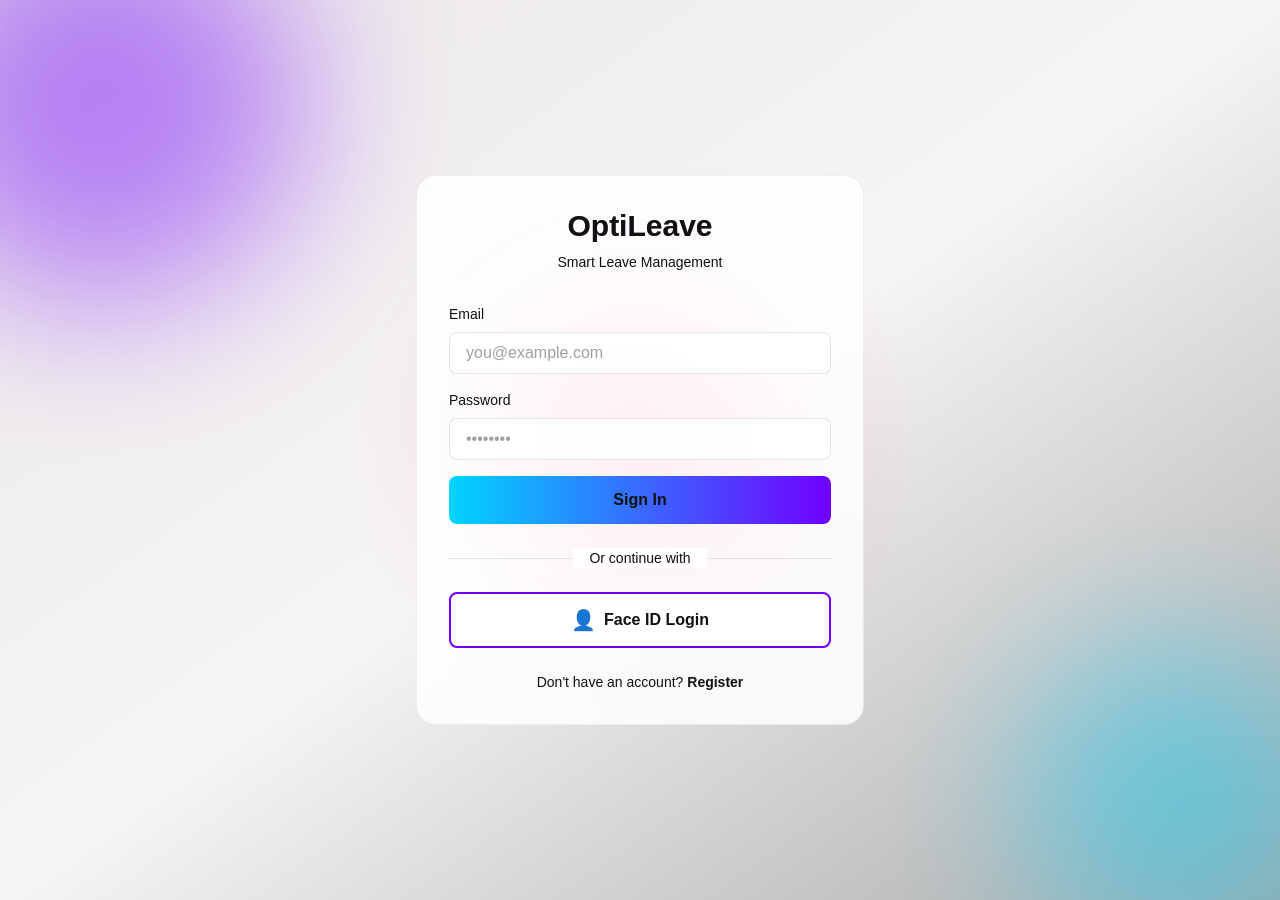
Scenario: LoginPage › Error Handling › should clear error message on new submission
The image size is (1280, 900).
# First submission - fails
Type "wrong@example.com" into the field labelled "Email" at (640, 353), box [449, 332, 831, 374]
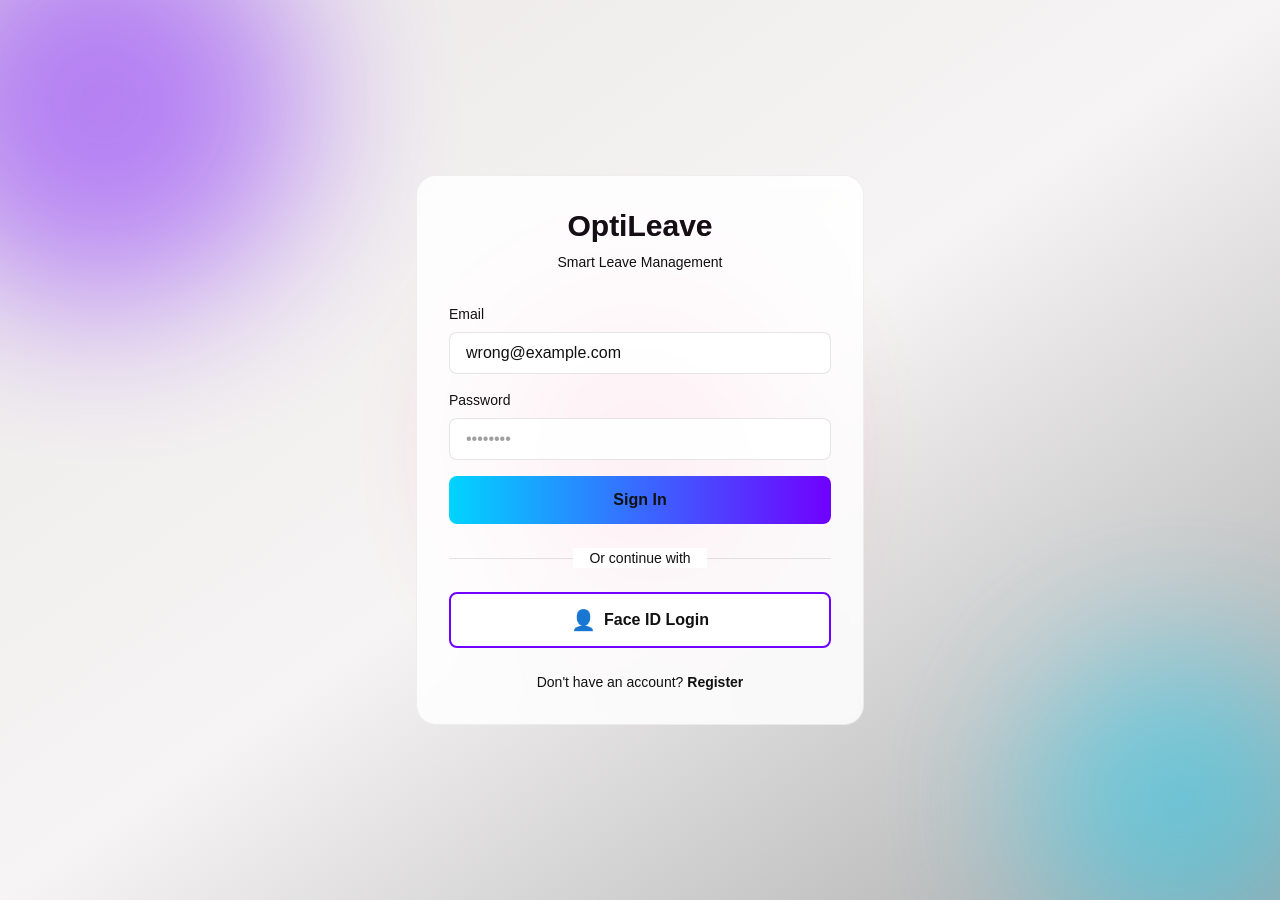
Type "wrongpassword" into the password field labelled "Password" at (640, 439), box [449, 418, 831, 460]
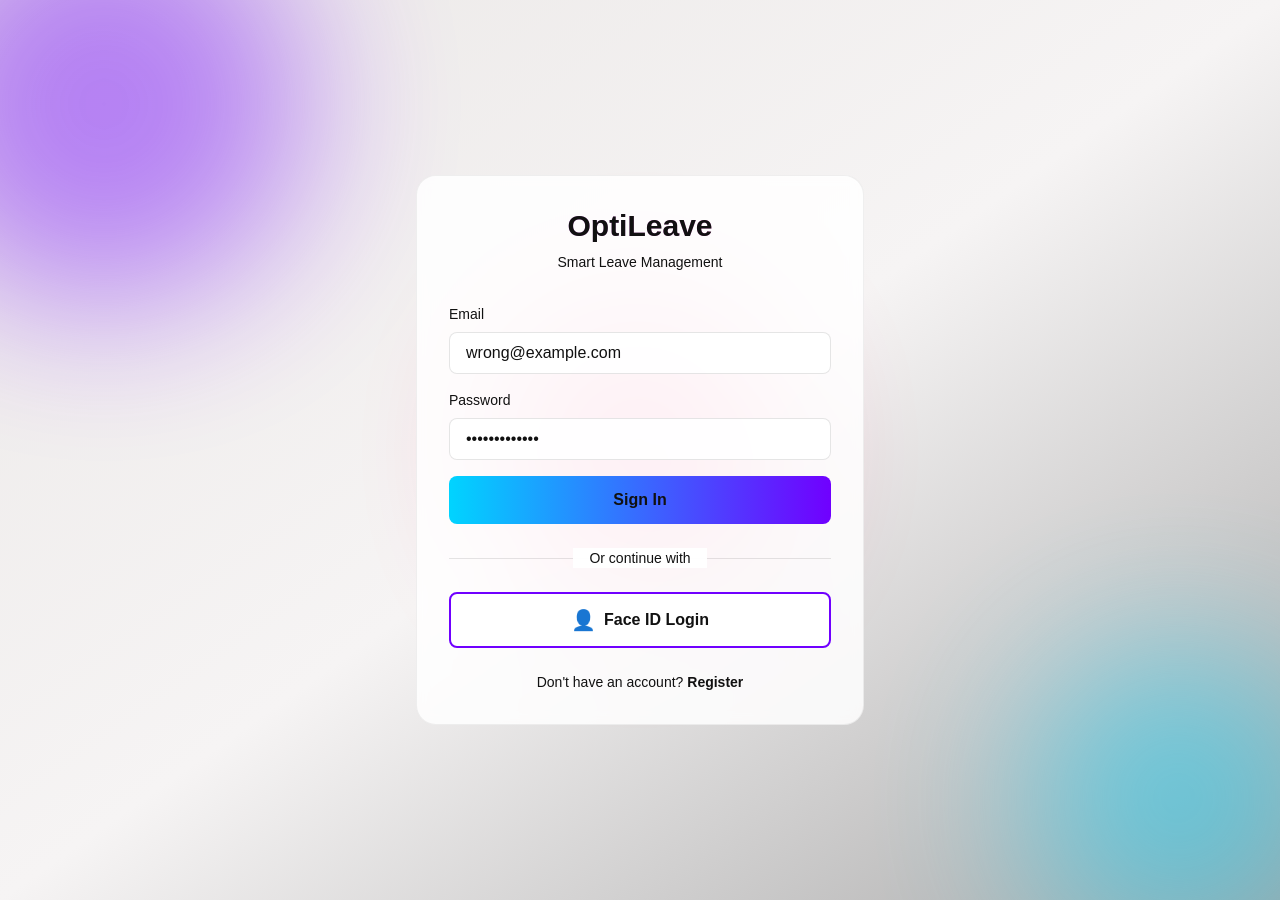
Click the button "Sign In" at (640, 500), box [449, 476, 831, 524]
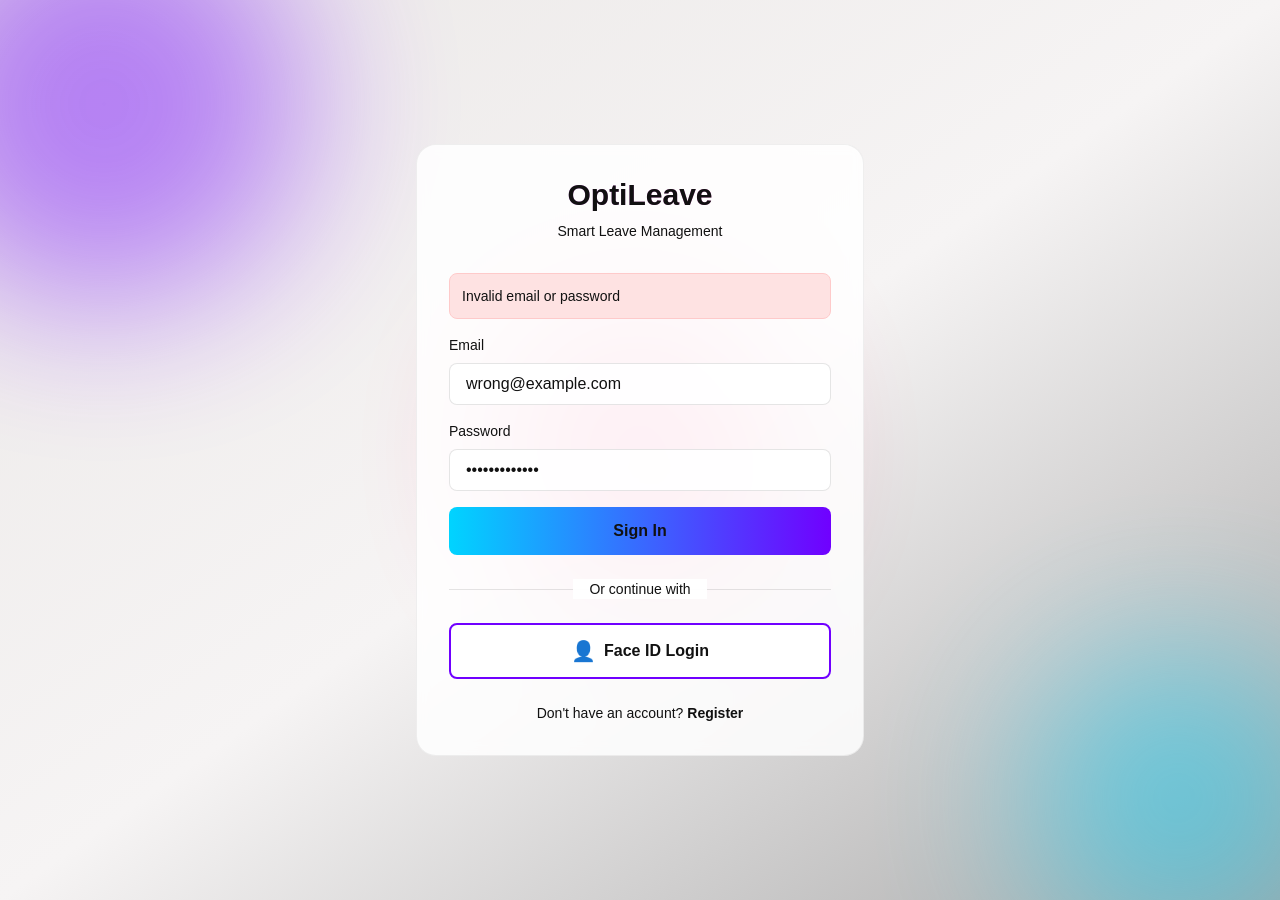
Check: the text "Invalid email or password" is shown, box [449, 273, 831, 319]
Replace the text in the field labelled "Email" with "correct@example.com" at (640, 384), box [449, 363, 831, 405]
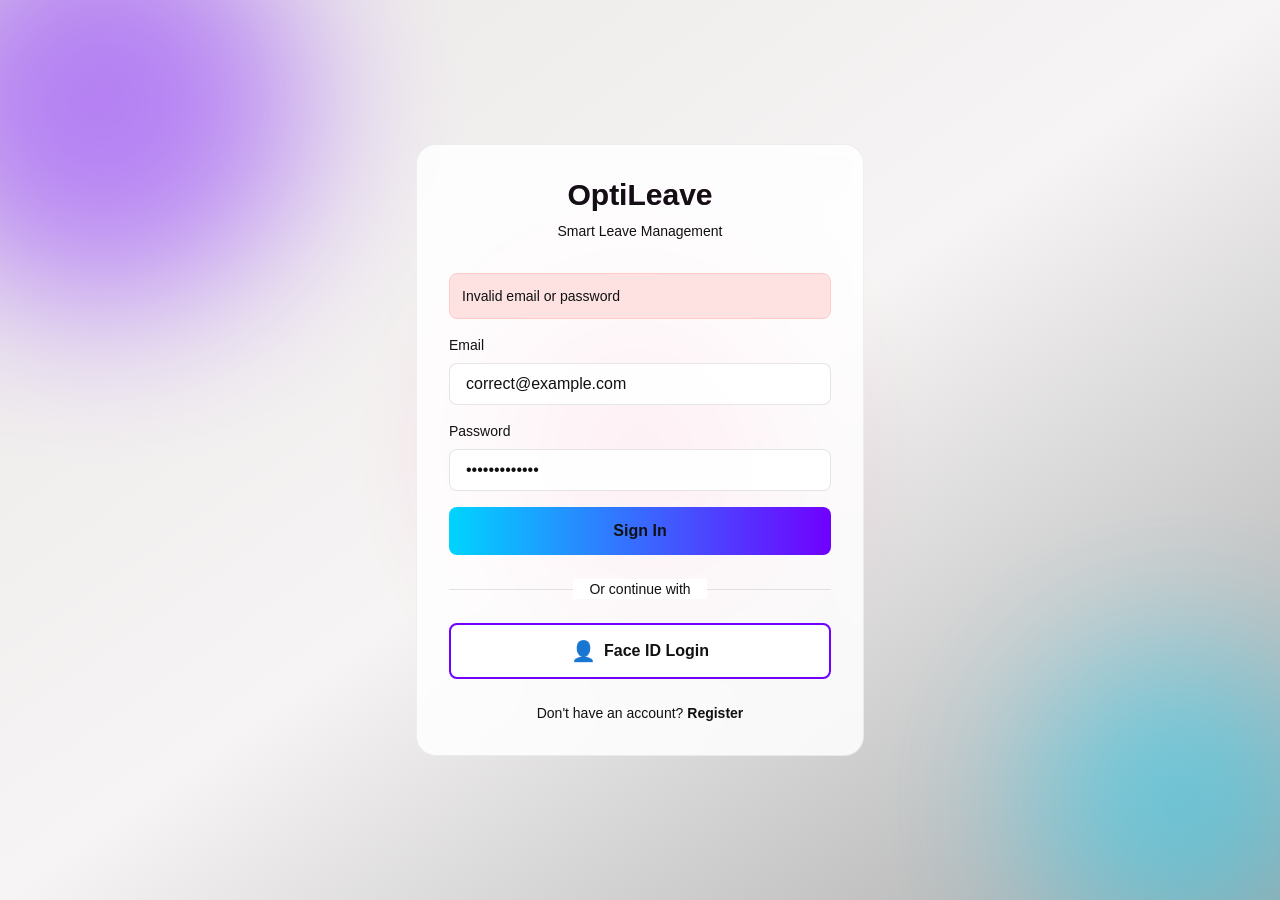
Type "correctpassword" into the password field labelled "Password" at (640, 470), box [449, 449, 831, 491]
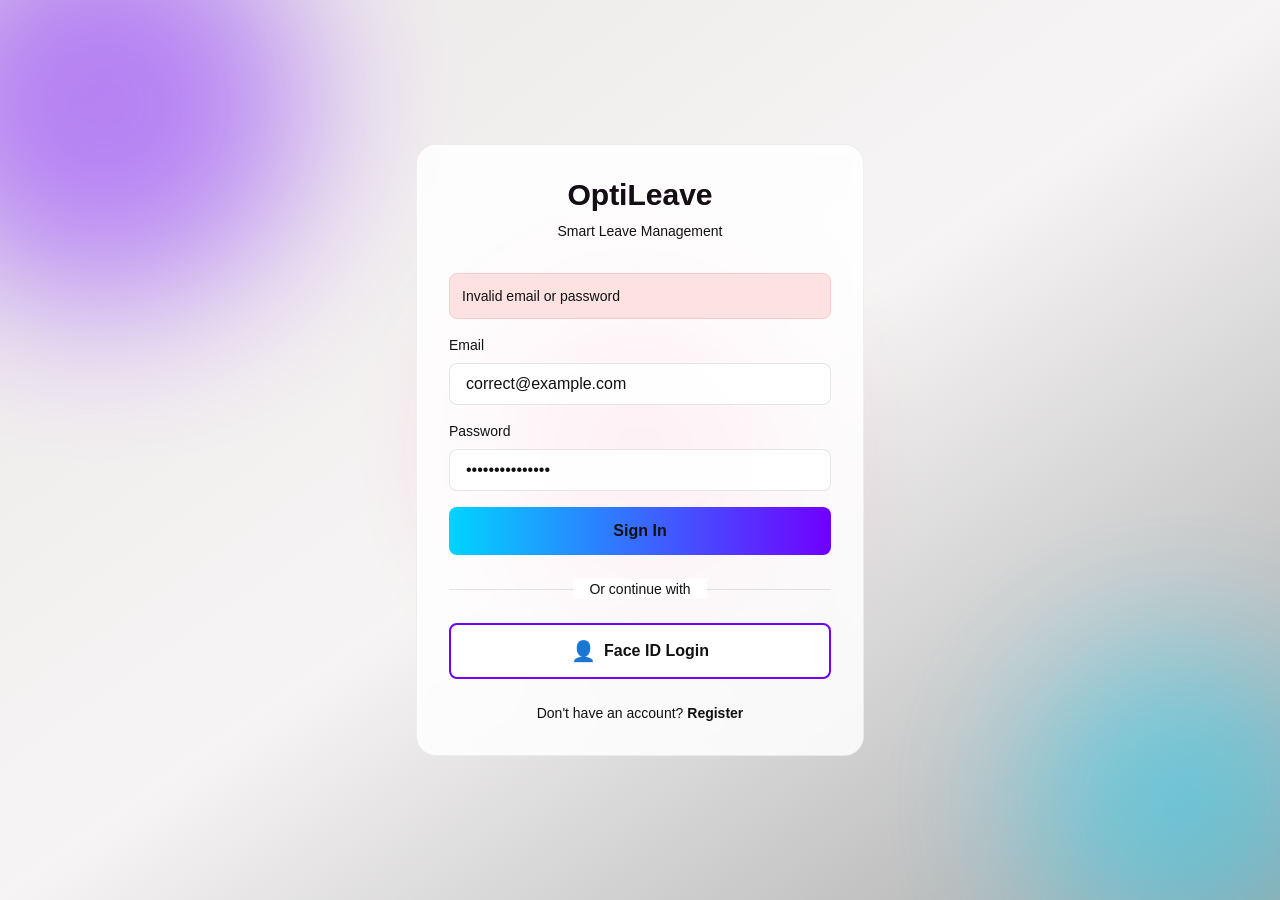
Click the button "Sign In" at (640, 531), box [449, 507, 831, 555]
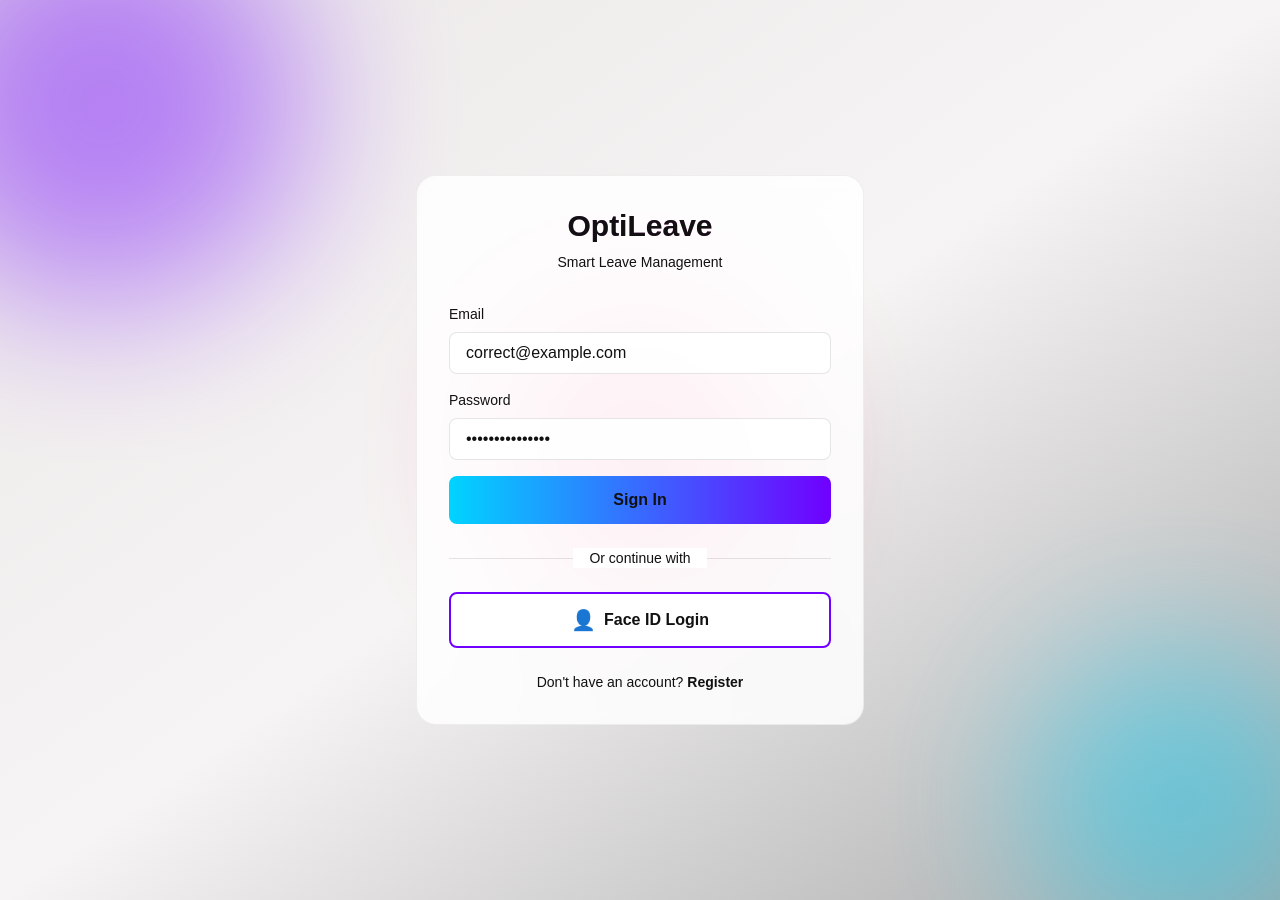
Check: the text "Invalid email or password" is gone
